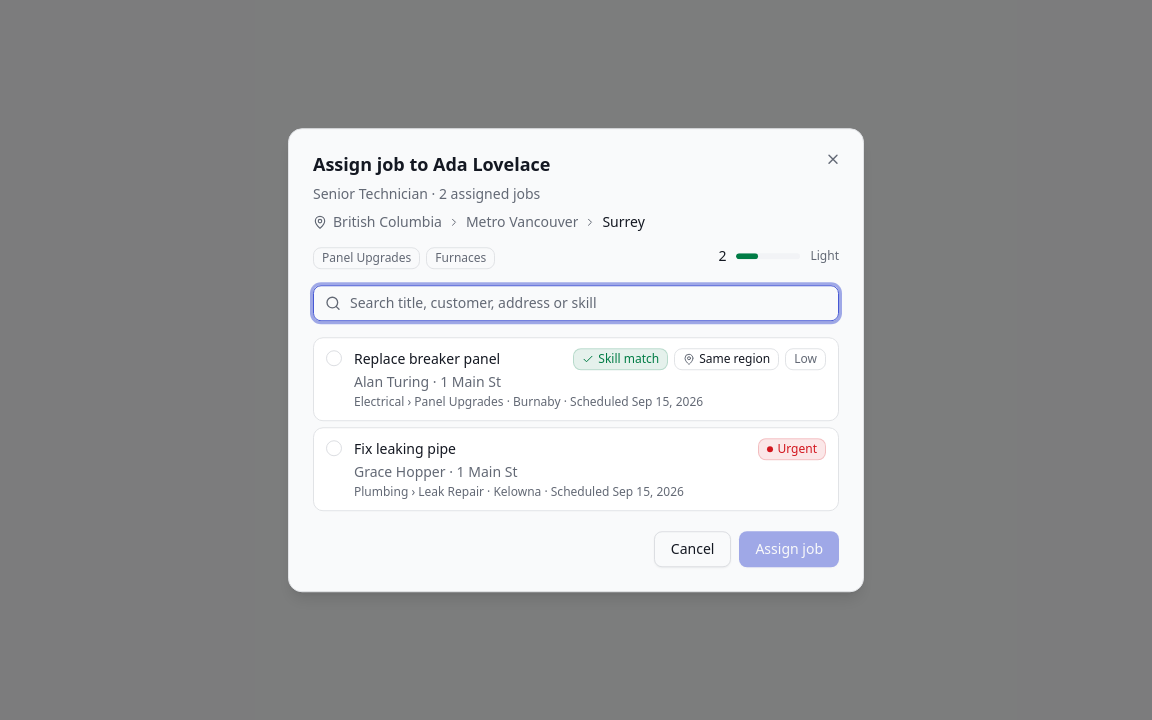
AssignJobDialog › cannot assign a selected job once a search hides it
Click the button "Fix leaking pipe" at (405, 448), box left=313, top=427, right=839, bottom=511
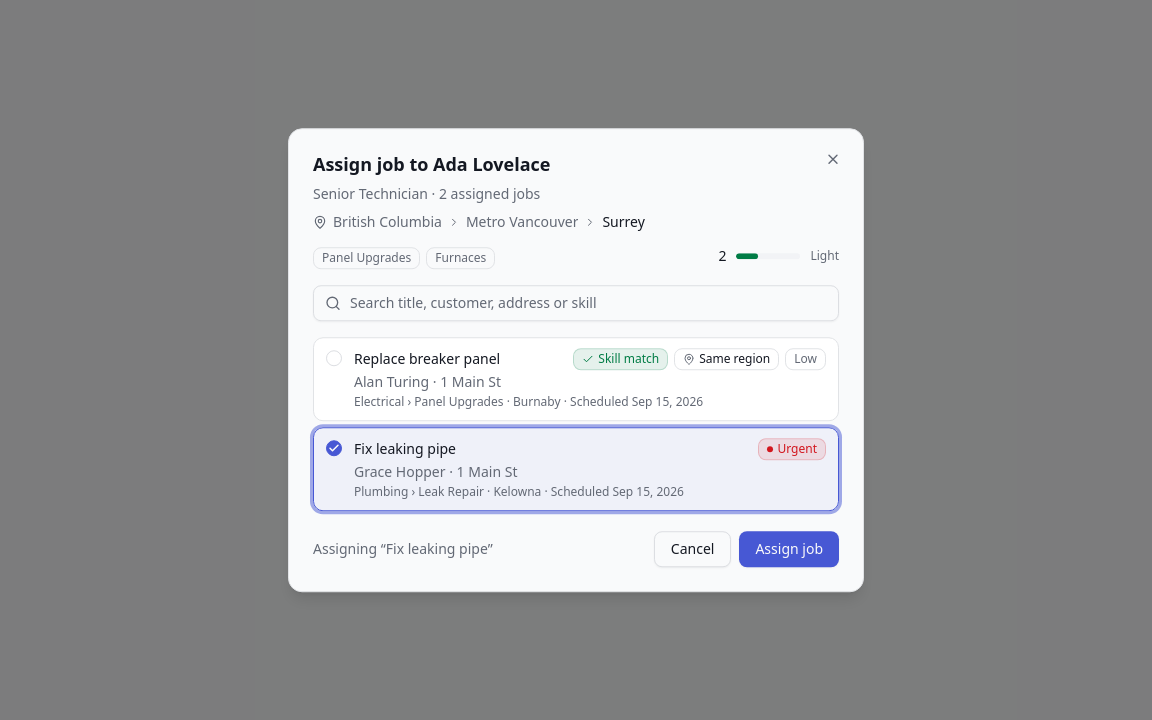
Expected: the button "Assign job" is enabled, left=739, top=531, right=839, bottom=567
Type "breaker" into the field named "Search jobs" at (576, 303), box left=313, top=285, right=839, bottom=321
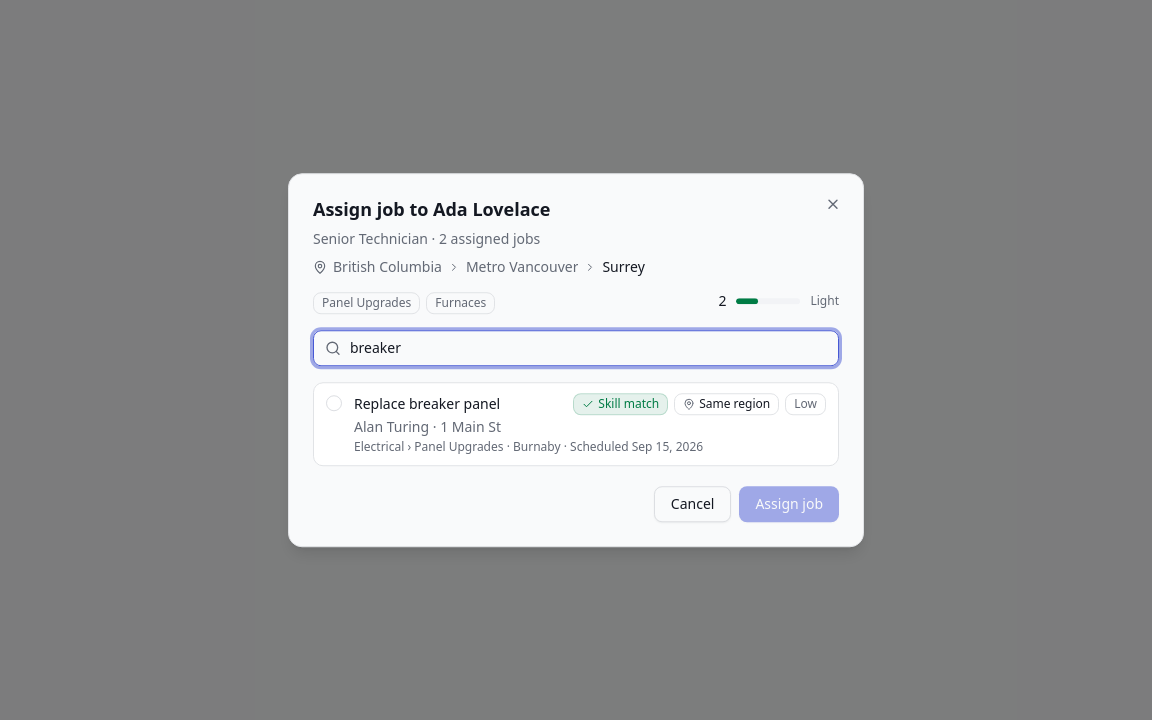
Expected: the button "Assign job" is disabled, left=739, top=486, right=839, bottom=522
Clear the field named "Search jobs" at (576, 348), box left=313, top=330, right=839, bottom=366
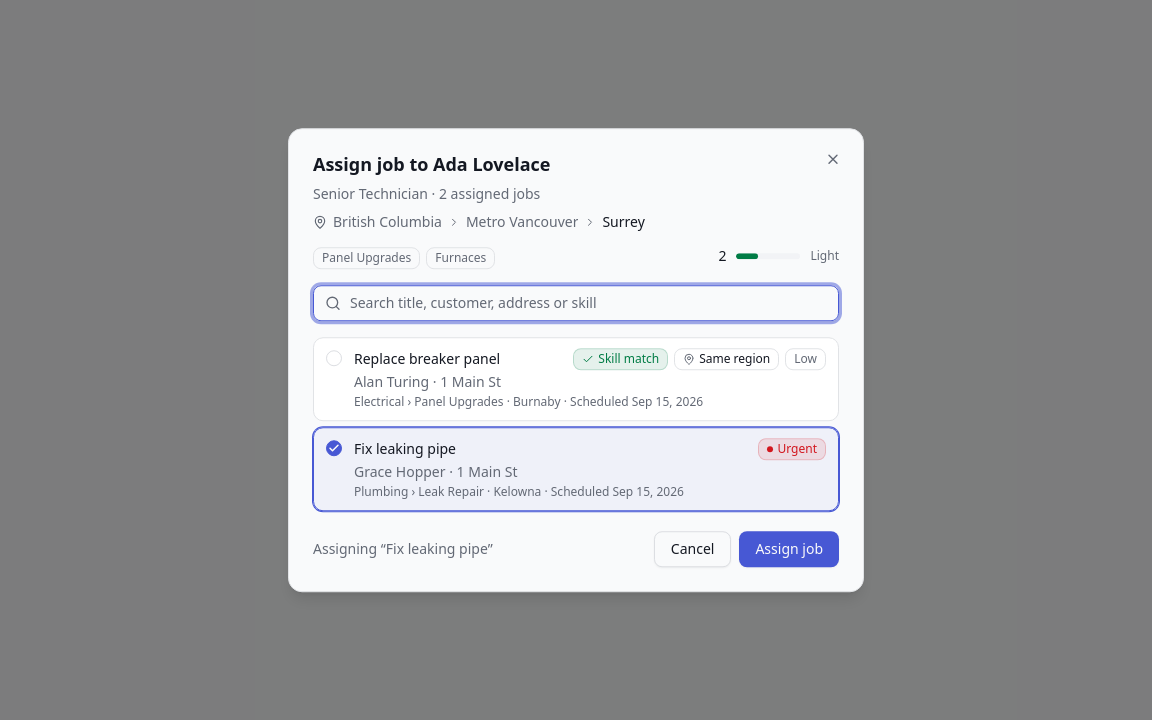
Expected: the button "Assign job" is enabled, left=739, top=531, right=839, bottom=567
